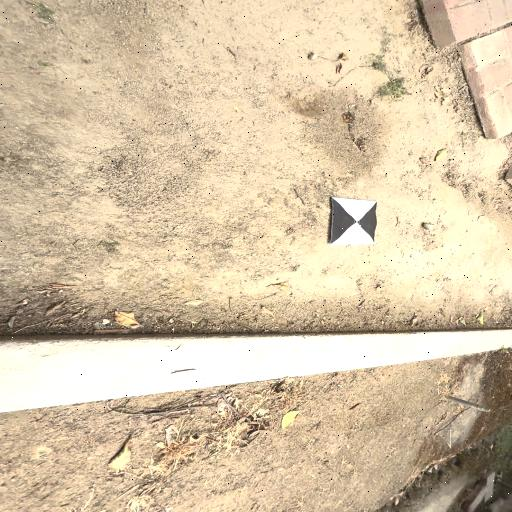target: (331, 198, 377, 244)
